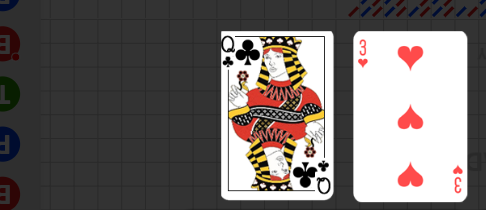3H: (357, 38, 370, 70)
QC: (223, 31, 267, 78), (290, 152, 334, 198)
